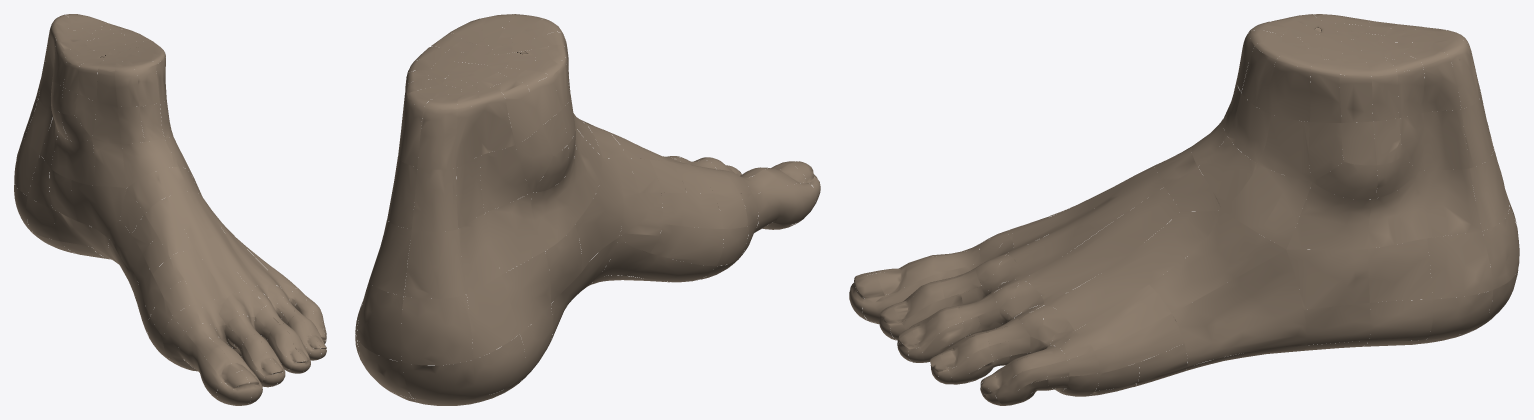
File: foot.optimized.glb
The picture shows the model from 3 angles, left to right: view 1: azimuth 30°, elevation 25°; view 2: azimuth 150°, elevation 25°; view 3: azimuth 270°, elevation 25°; orthographic projection. The views are drawn at different scales.
Visible parts, largest first — view 1: Foot_Optimized; view 2: Foot_Optimized; view 3: Foot_Optimized.
Boxes of the visible parts, x1,y1,x2,y2 form: Foot_Optimized: [14, 14, 326, 405]; Foot_Optimized: [355, 14, 820, 405]; Foot_Optimized: [849, 14, 1519, 405].
Bounding box in the file's own units: 2.62 × 3.65 × 7.
